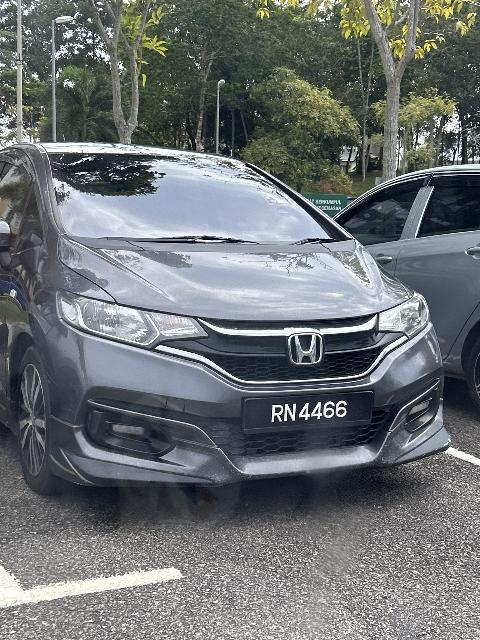License_Plate: (237, 391, 382, 434)
car: (3, 144, 452, 494)
